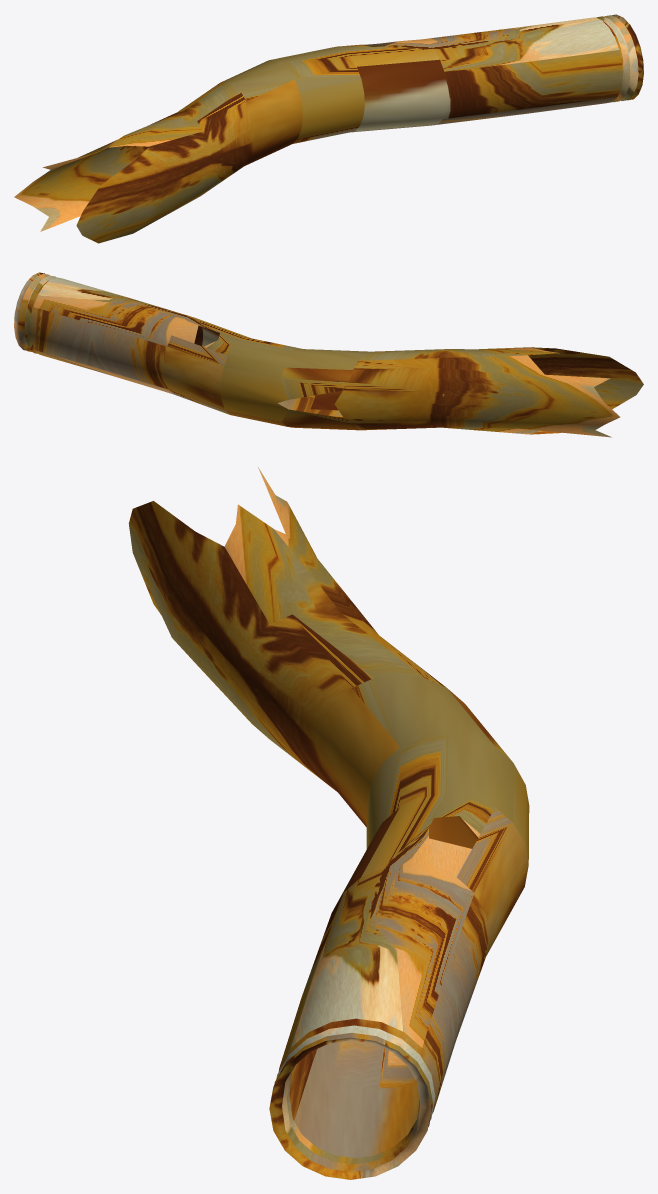
File: pipe tunnel.fbx
The picture shows the model from 3 angles, top to bottom: view 1: azimuth 30°, elevation 25°; view 2: azimuth 150°, elevation 25°; view 3: azimuth 270°, elevation 25°; orthographic projection. The views are drawn at different scales.
Parts seen in each view (by area): view 1: pCylinder1; view 2: pCylinder1; view 3: pCylinder1.
Boxes of the visible parts, x1,y1,x2,y2 form: pCylinder1: (14,14,643,243); pCylinder1: (14,272,643,437); pCylinder1: (128,467,529,1179).
Bounding box in the file's own units: 7.46 × 1.19 × 2.26.
1 material, 1 textured.
